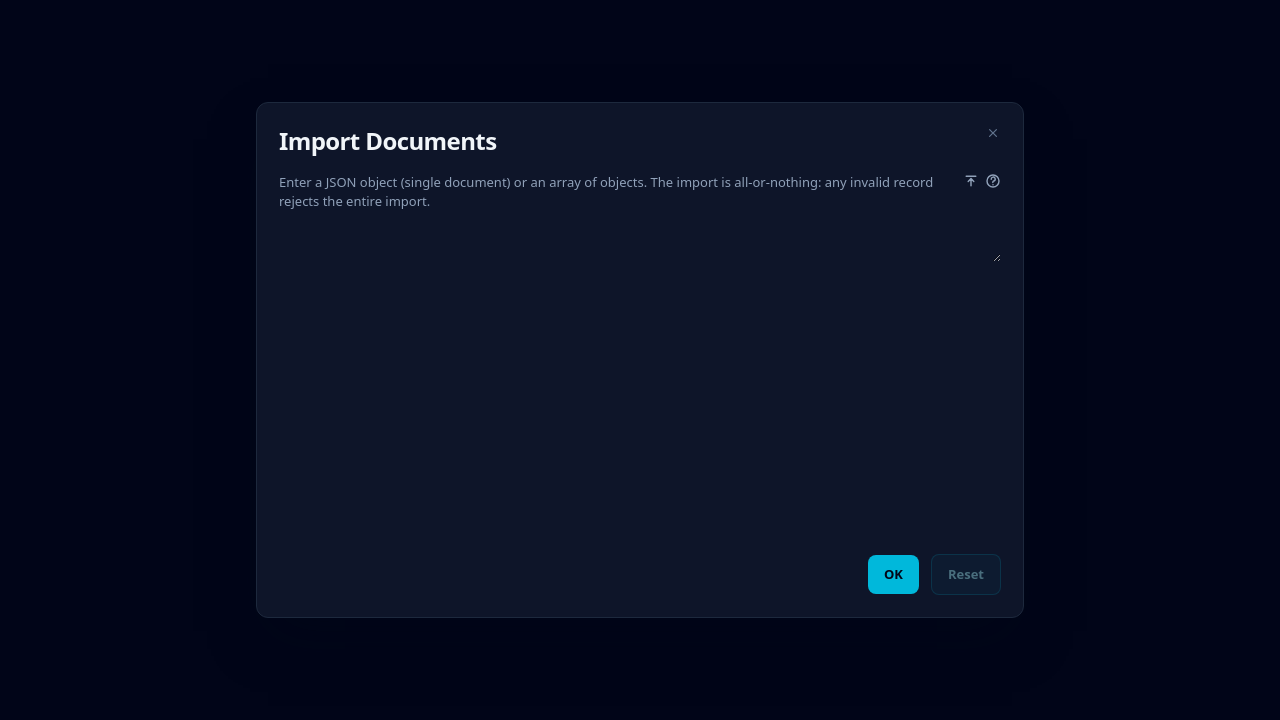
Test: ImportDialog › opens a samples dialog with tabbed document samples
This screenshot has width=1280, height=720.
Expected: the text "Import samples" is not shown
Click the button named "Show import samples" at (993, 181), box x1=985 y1=173 x2=1001 y2=189
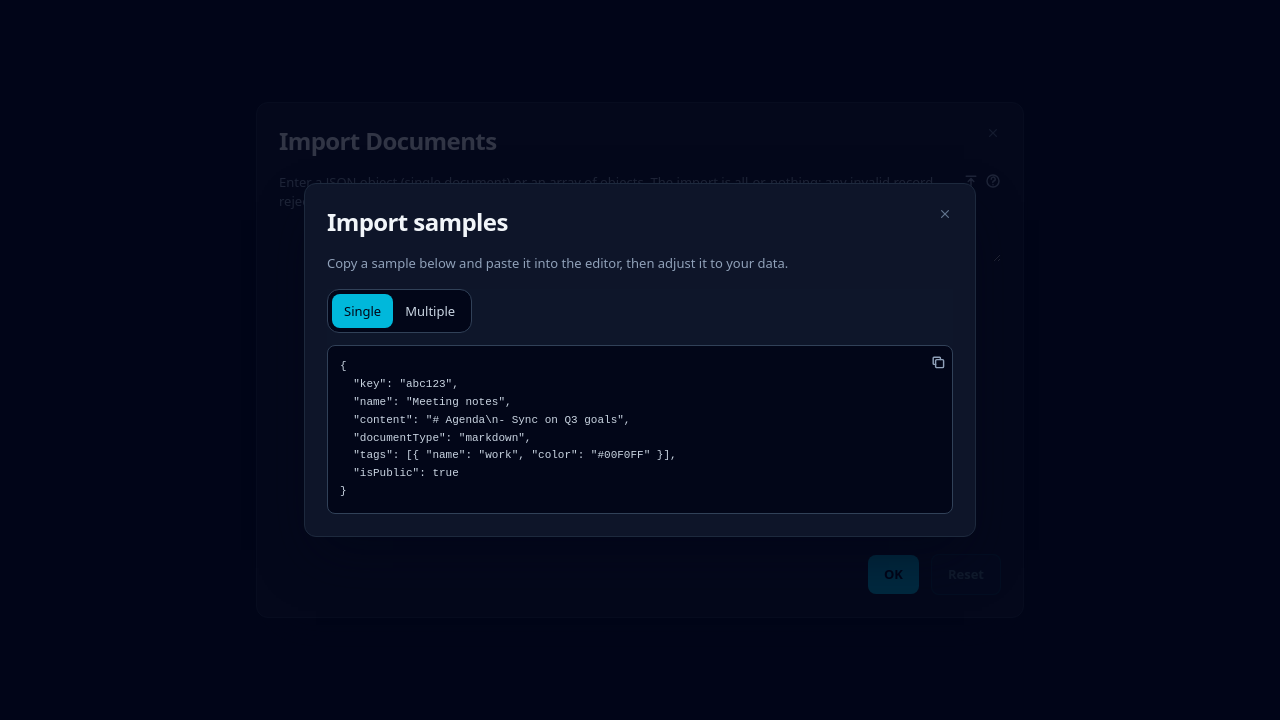
Now the heading "Import samples" is shown, box x1=327 y1=205 x2=508 y2=238
Now the button named "Copy Single document sample" is shown, box x1=930 y1=354 x2=946 y2=370
Now the text "\"Meeting notes\"" is shown, box x1=340 y1=360 x2=677 y2=497
Click the button "Multiple" at (430, 311), box x1=393 y1=294 x2=467 y2=328
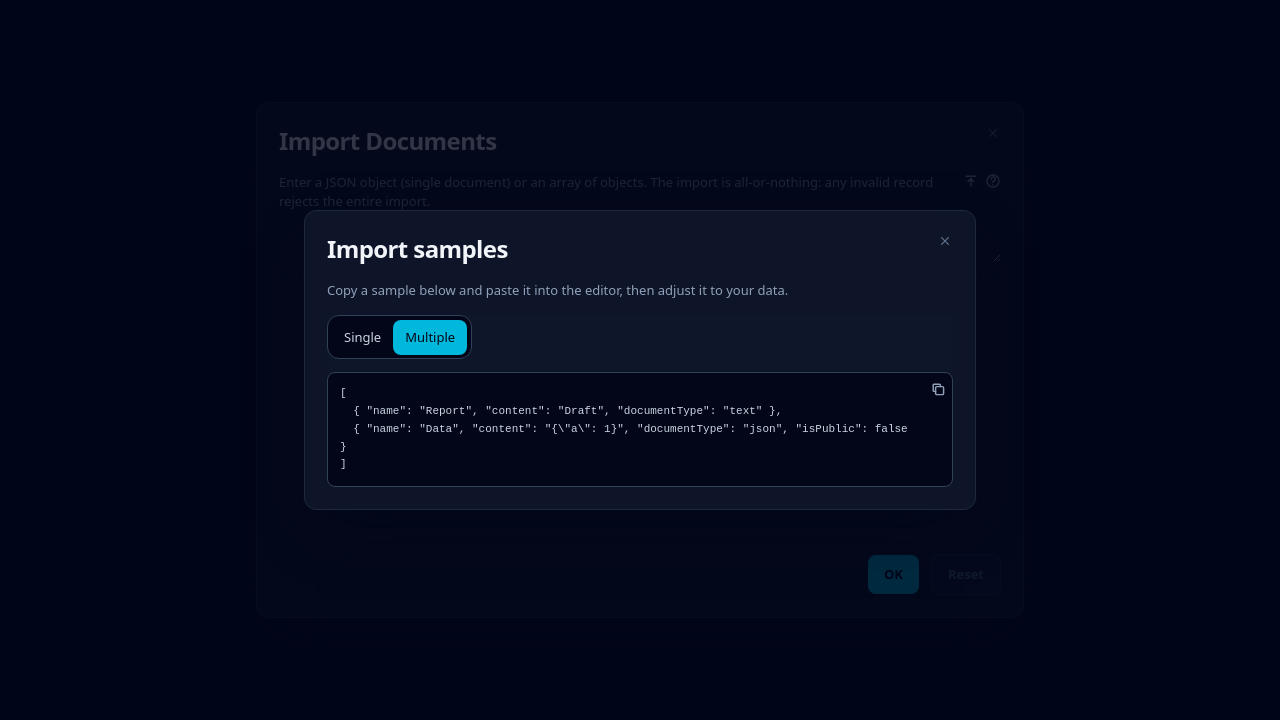
Now the button named "Copy Multiple documents sample" is shown, box x1=930 y1=381 x2=946 y2=397
Now the text "\"Report\"" is shown, box x1=340 y1=387 x2=914 y2=470
